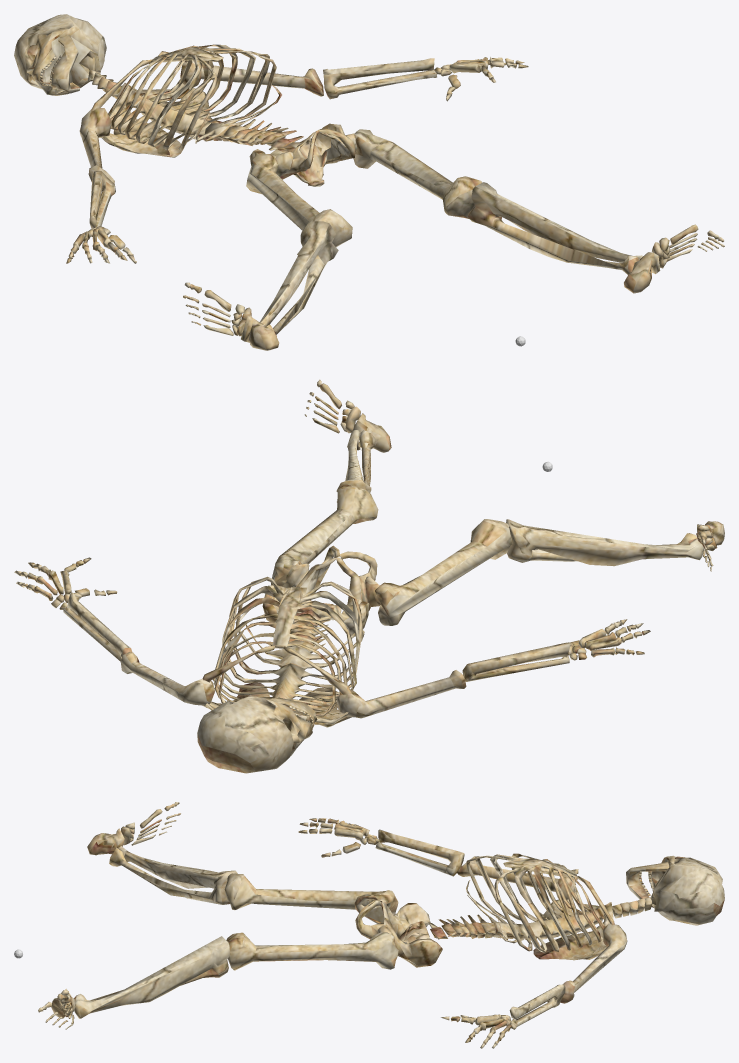
File: skeleton_2_posed.fbx
The picture shows the model from 3 angles, top to bottom: view 1: azimuth 30°, elevation 25°; view 2: azimuth 150°, elevation 25°; view 3: azimuth 270°, elevation 25°; orthographic projection. The views are drawn at different scales.
Parts seen in each view (by area): view 1: Object_73; view 2: Object_73; view 3: Object_73.
Boxes of the visible parts, <box> form: Object_73: <box>14,14,724,350</box>; Object_73: <box>14,379,724,773</box>; Object_73: <box>38,802,724,1048</box>.
Bounding box in the file's own units: 11977 × 2121 × 15385.
